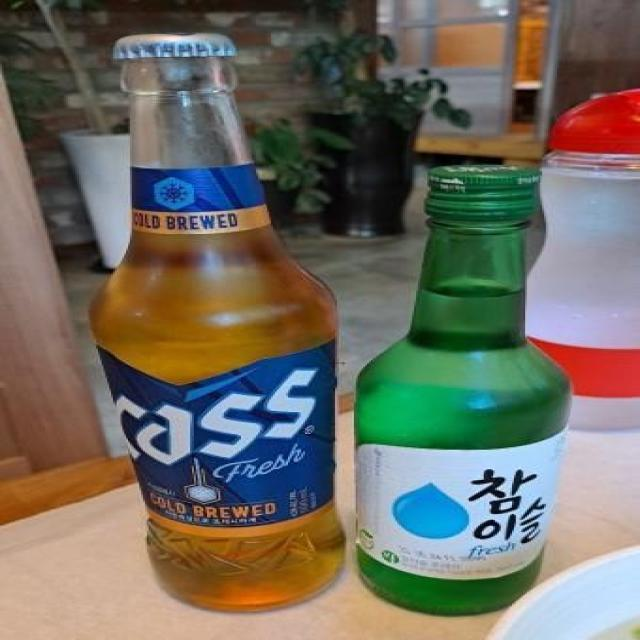beer-bottle: (86, 28, 354, 610)
soju-bottle: (350, 159, 602, 640)
